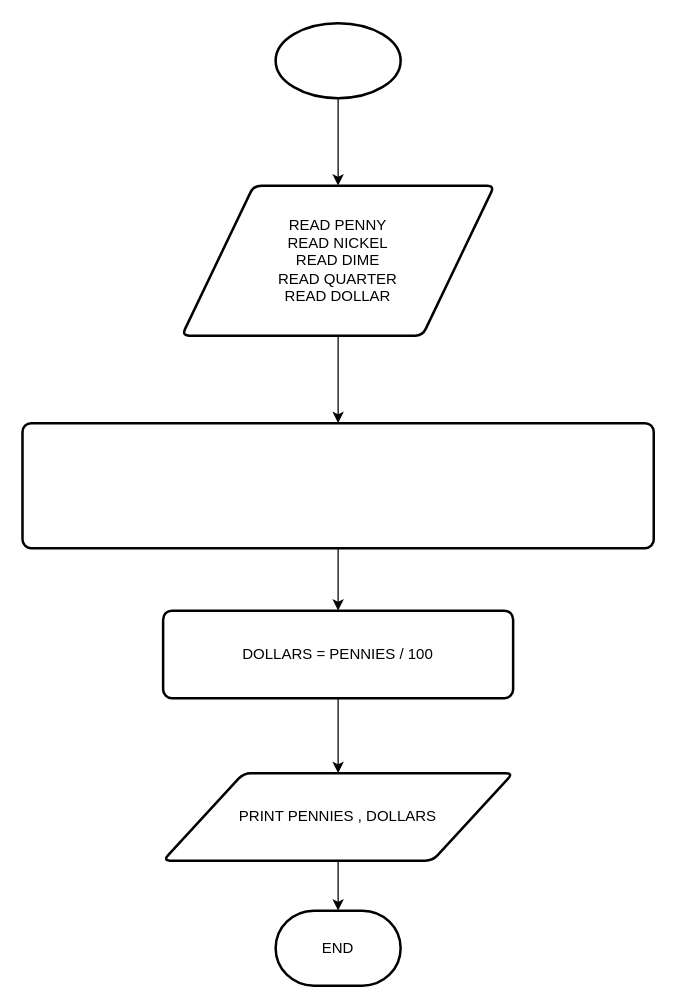
This 676x1008 diagram has some shape labels left out. The box of each missing label's shape, as (x1, y1, x2, y2) in pixels:
PENNIES = (PENNY * 1)+(NICKEL *5)+(DIME *10)+(QUARTER *25)+(DOLLAR *100): (21, 421, 654, 549)
START: (274, 21, 401, 99)
